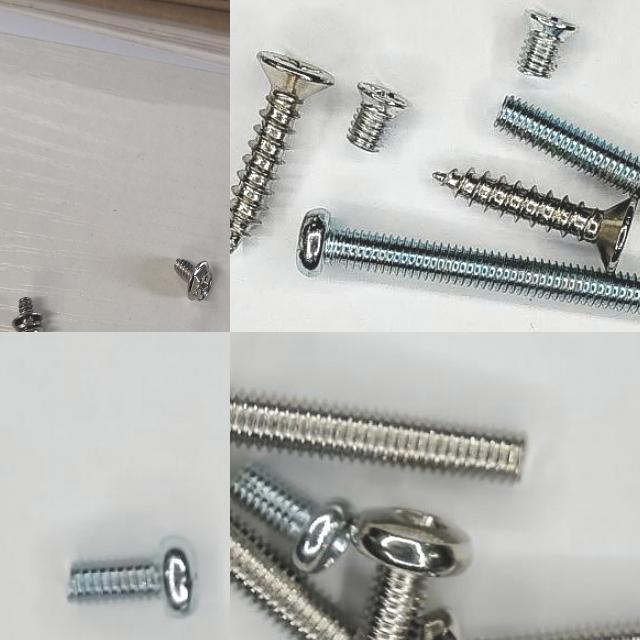Screw: (296, 209, 640, 315), (230, 394, 526, 481), (230, 51, 335, 253), (434, 169, 637, 270), (351, 509, 472, 640), (230, 519, 351, 640), (497, 98, 640, 198), (230, 465, 352, 574), (68, 538, 197, 616), (348, 82, 412, 152), (518, 6, 578, 78), (172, 255, 216, 304), (9, 293, 48, 332)
